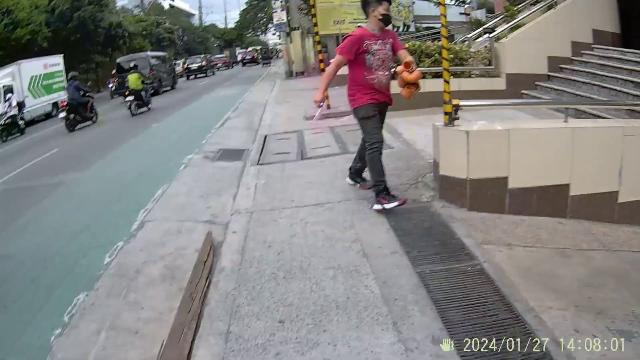utility_post: (272, 0, 321, 76)
